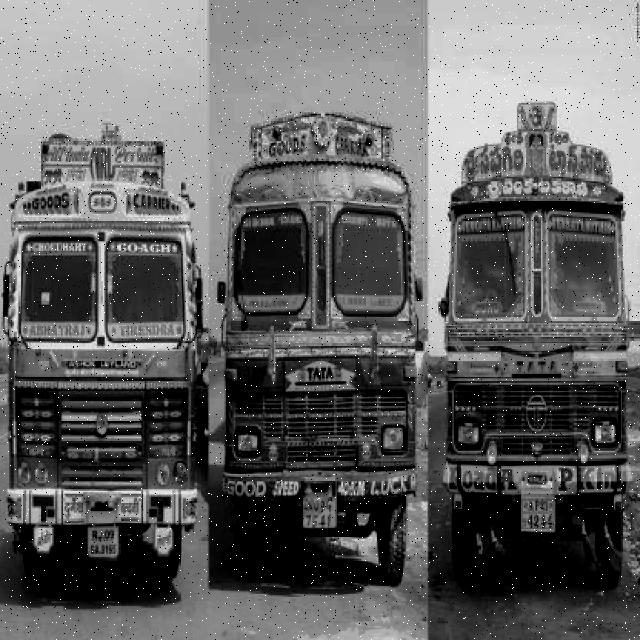HCV: (18, 147, 354, 538)
